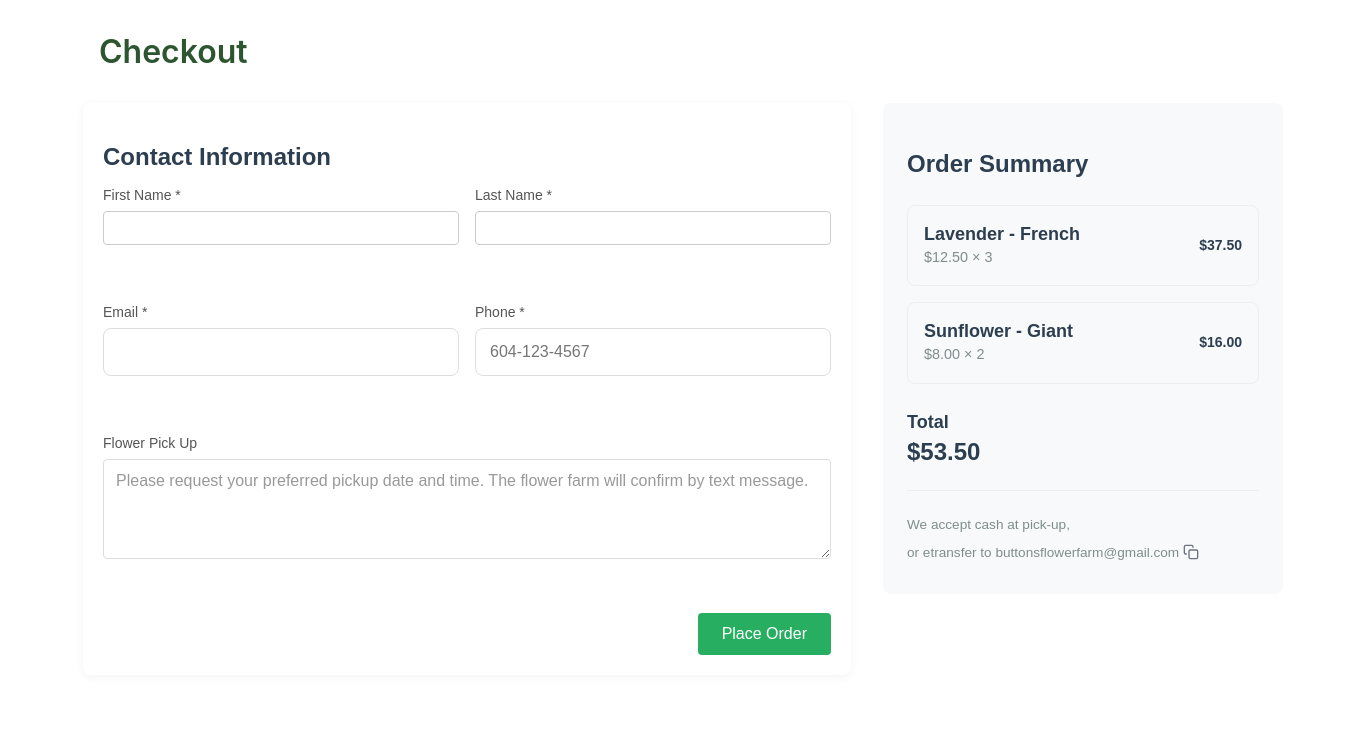
Order Management System Tests › Checkout Process › TC-002: Validation prevents order submission with missing required fields
// Submit form without filling any fields
Click the button "Place Order" at point(764, 634), box [698,613,831,655]
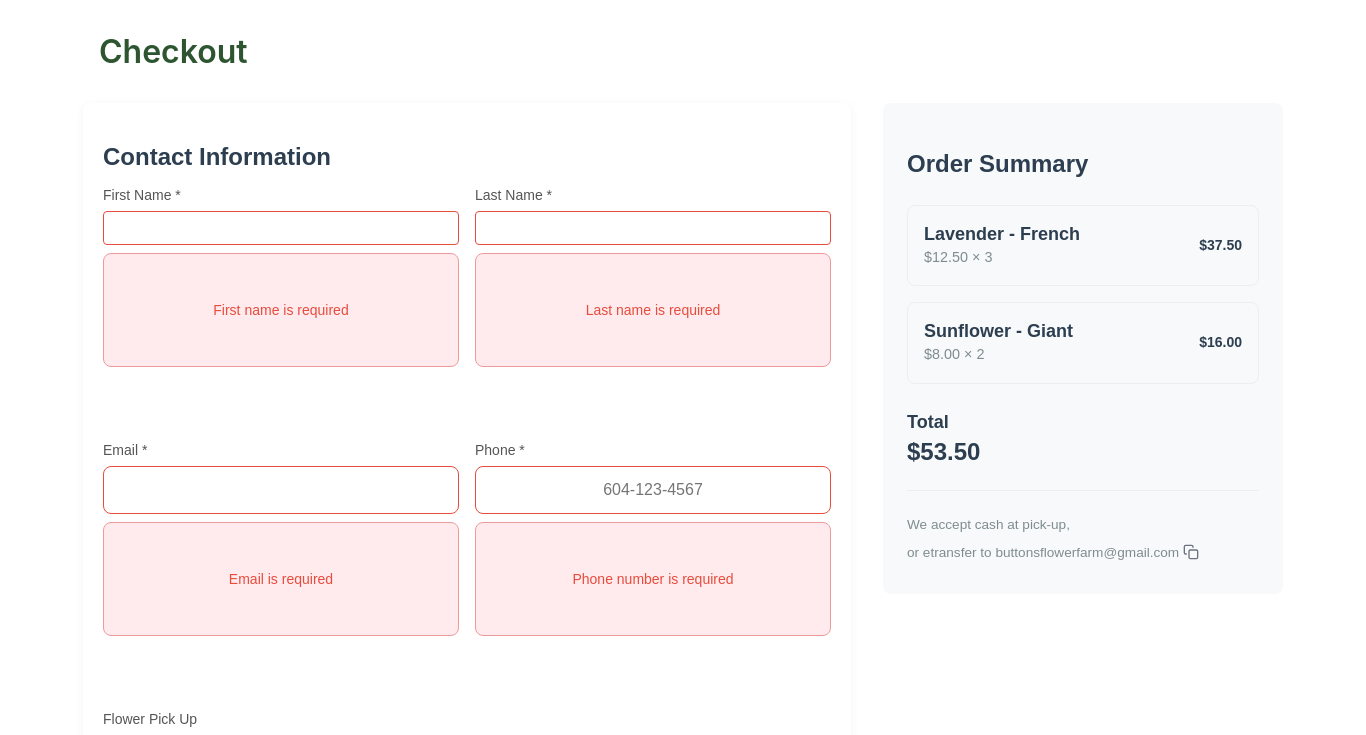
Expected: the text "First name is required" is shown, [103,253,459,367]
Expected: the text "Last name is required" is shown, [475,253,831,367]
Expected: the text "Email is required" is shown, [103,522,459,636]
